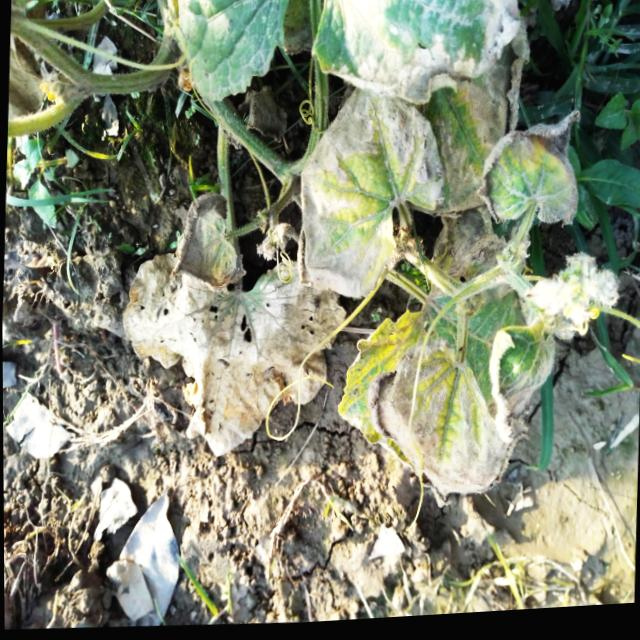Bacterial-Wilt: (120, 252, 347, 464)
